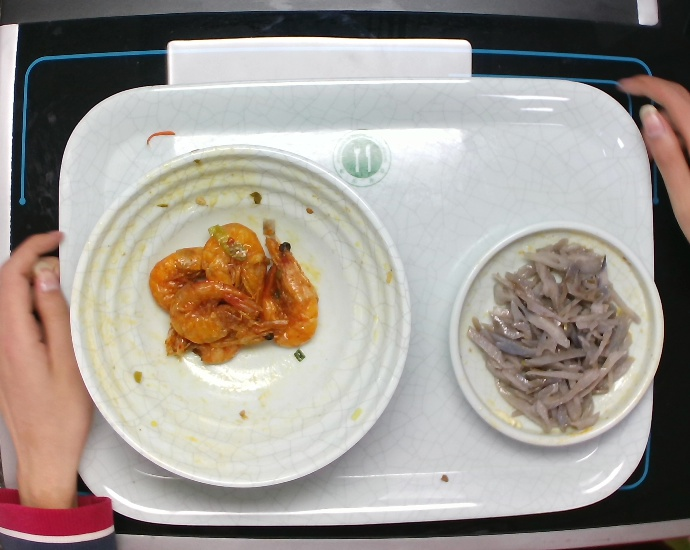JYsf-Da_Tang_Wan: (63, 139, 423, 492)
JYsf-Xiao_Yuan_Pan: (440, 219, 670, 454)
